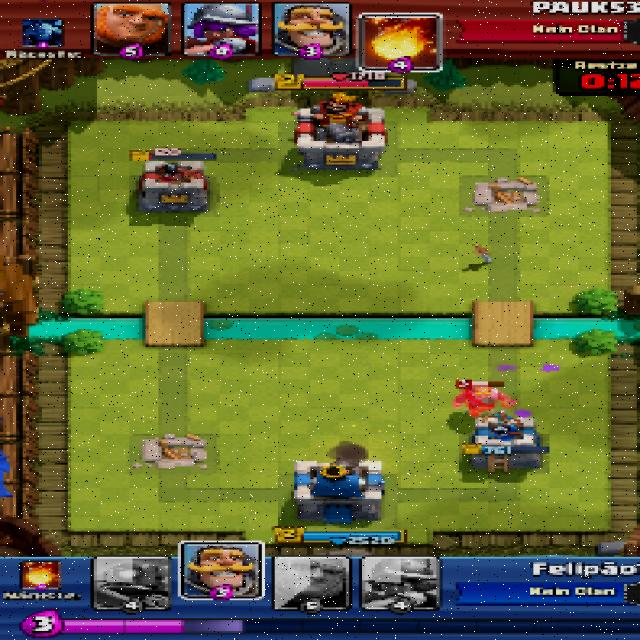Enemy-Knight: (448, 385, 514, 416)
